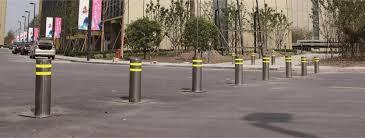Animal: (33, 57, 56, 119), (121, 57, 141, 108), (183, 55, 203, 96), (256, 56, 270, 83), (229, 54, 241, 81), (286, 57, 294, 78), (301, 57, 309, 76)
